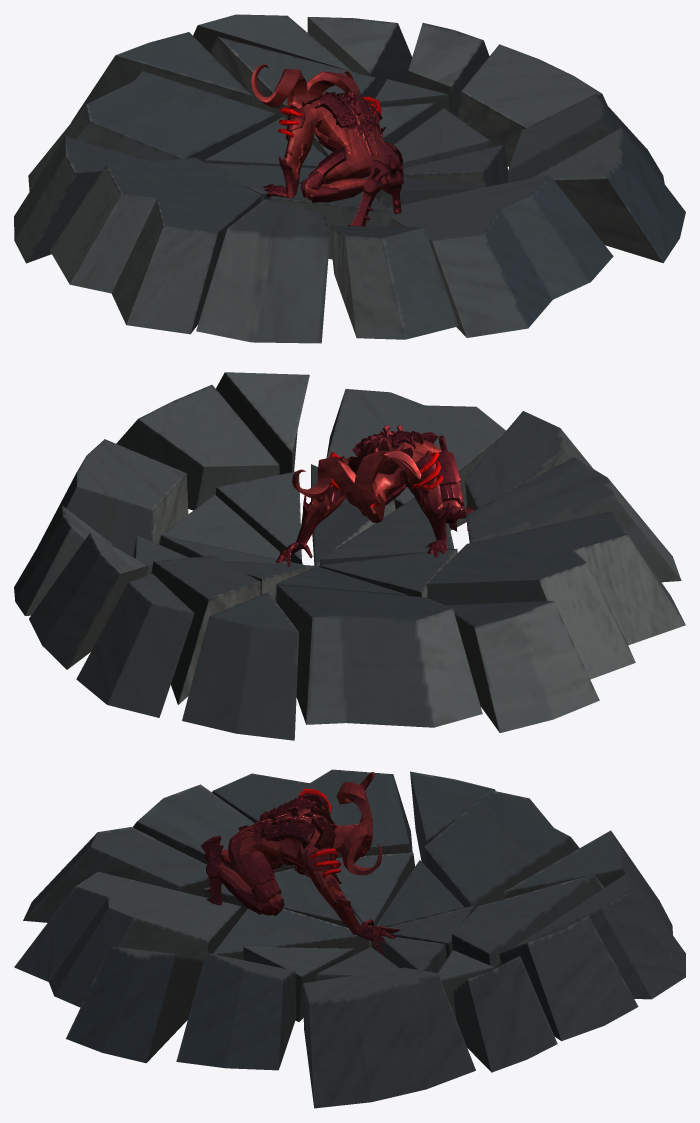
3 views of the same model, one above another, from view 1: azimuth 30°, elevation 25°; view 2: azimuth 150°, elevation 25°; view 3: azimuth 270°, elevation 25° (orthographic). The views are drawn at different scales.
Visible parts, largest first — view 1: Cylinder.007_Cylinder.009, Demon_LOW_Plane.002; view 2: Cylinder.007_Cylinder.009, Demon_LOW_Plane.002; view 3: Cylinder.007_Cylinder.009, Demon_LOW_Plane.002.
Boxes of the visible parts, <box> form: Cylinder.007_Cylinder.009: <box>14,14,685,343</box>; Demon_LOW_Plane.002: <box>251,64,403,226</box>; Cylinder.007_Cylinder.009: <box>14,372,685,740</box>; Demon_LOW_Plane.002: <box>276,425,473,566</box>; Cylinder.007_Cylinder.009: <box>14,769,685,1108</box>; Demon_LOW_Plane.002: <box>200,772,400,956</box>.
Size of the model in its own units: 15.24 by 4.37 by 15.88.
